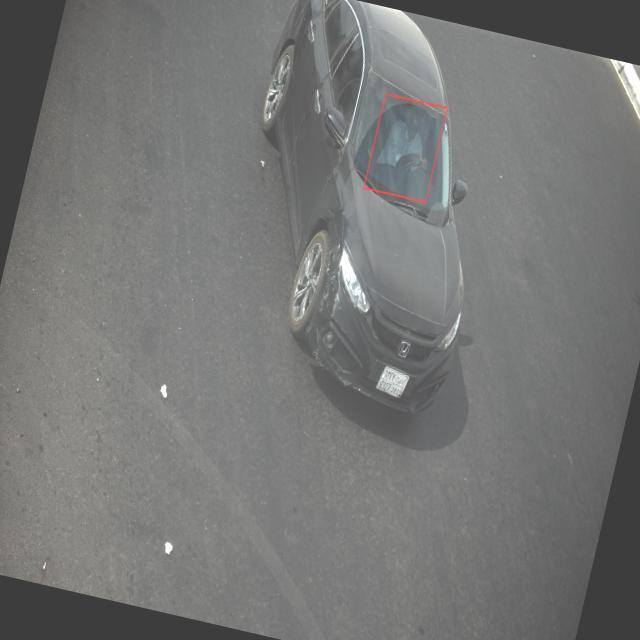windshield: (348, 67, 456, 227)
